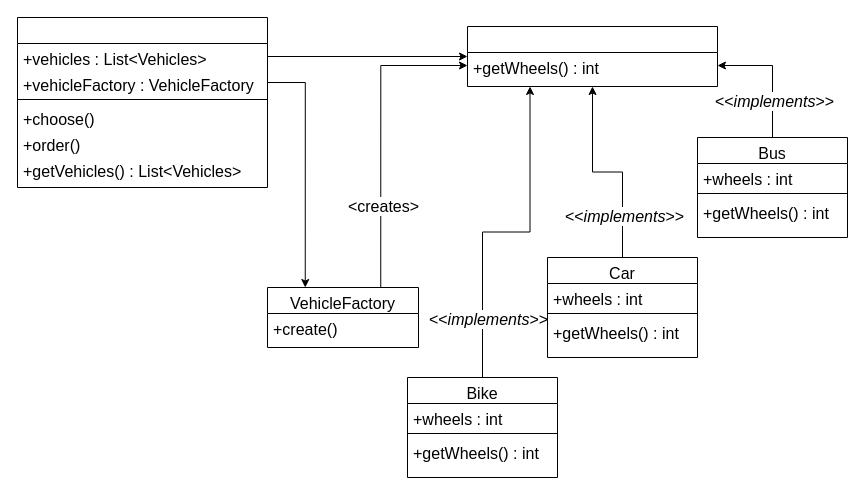
Image size: 865x495. Some labels were removed from this diagram. The shapes that lost their labels are listed below. From the top down, each one's box as (x1, y1, x2, y2) in pixels, then its label:
(466, 26, 718, 86): IVehicle
(16, 16, 268, 188): Garage
